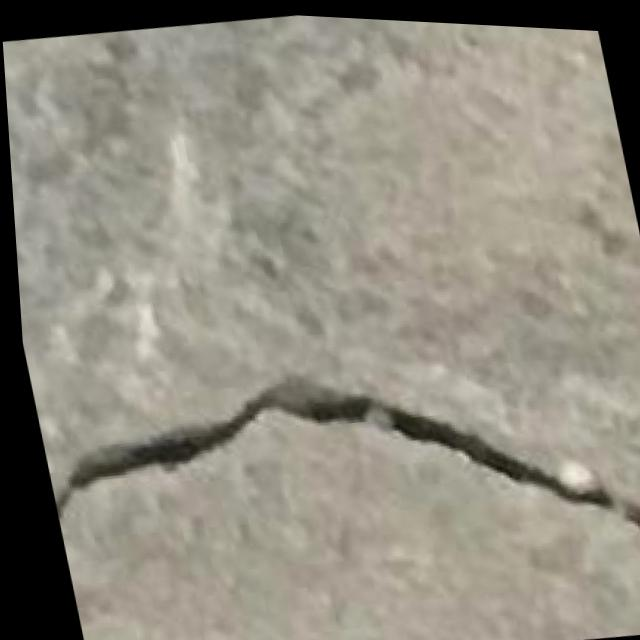Crack: (23, 304, 640, 640)
